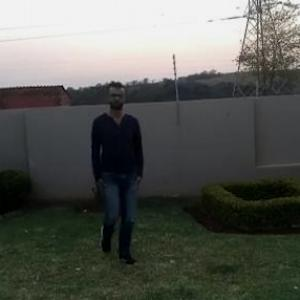follow: (86, 80, 147, 268)
